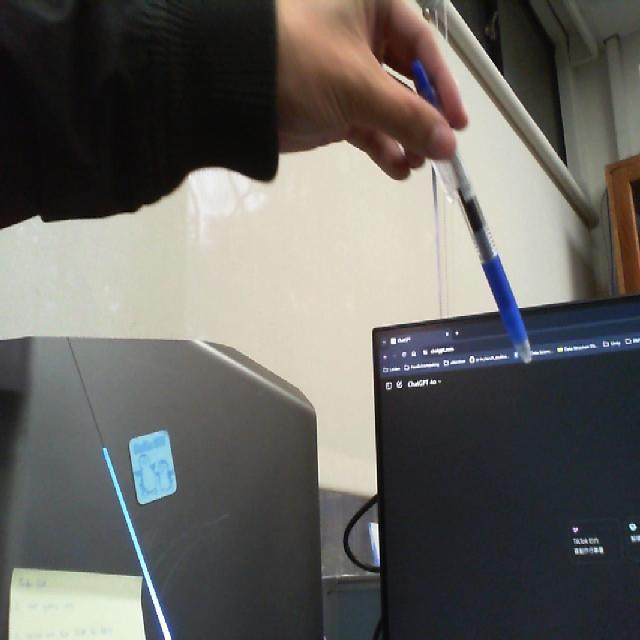Pen: (402, 52, 546, 384)
